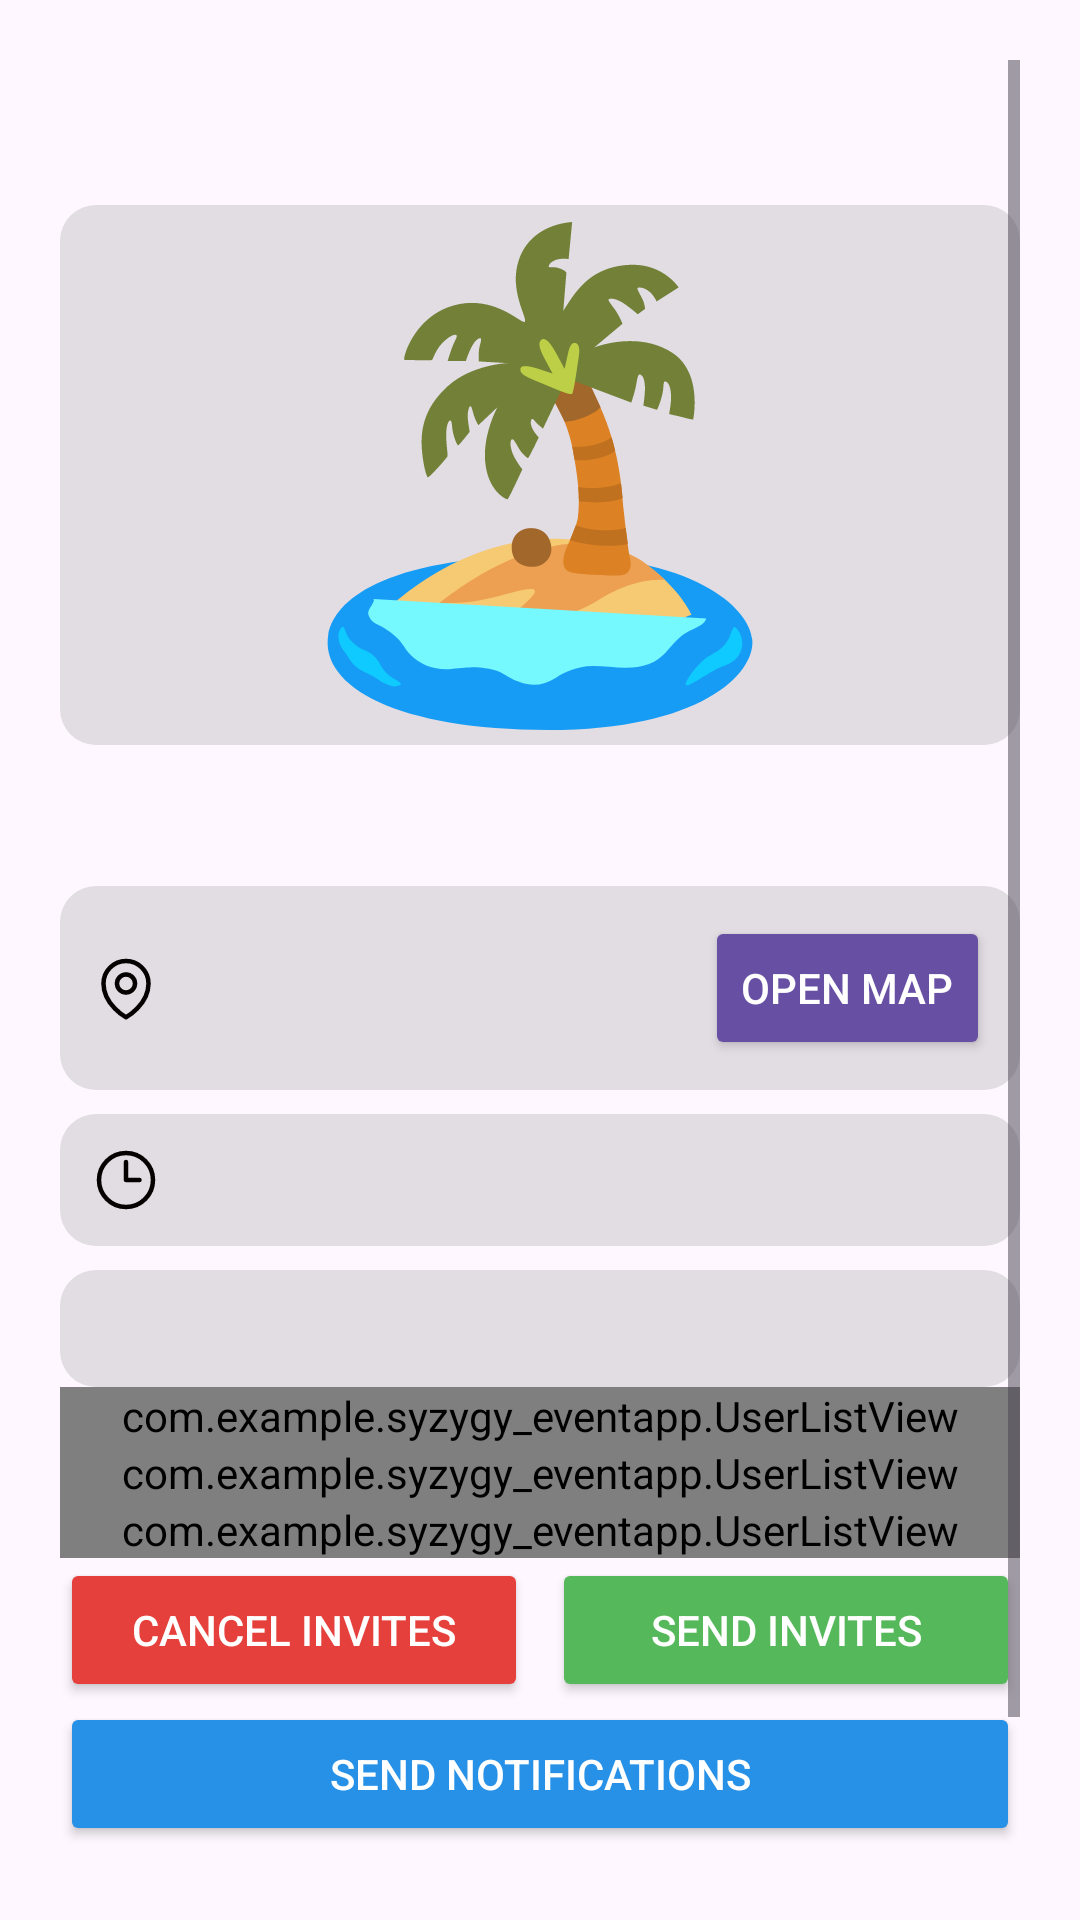

Icon click points for this 1080 × 1920 phone screenshot, format point (x, y):
clock: point (126, 1180)
location: point (126, 989)
